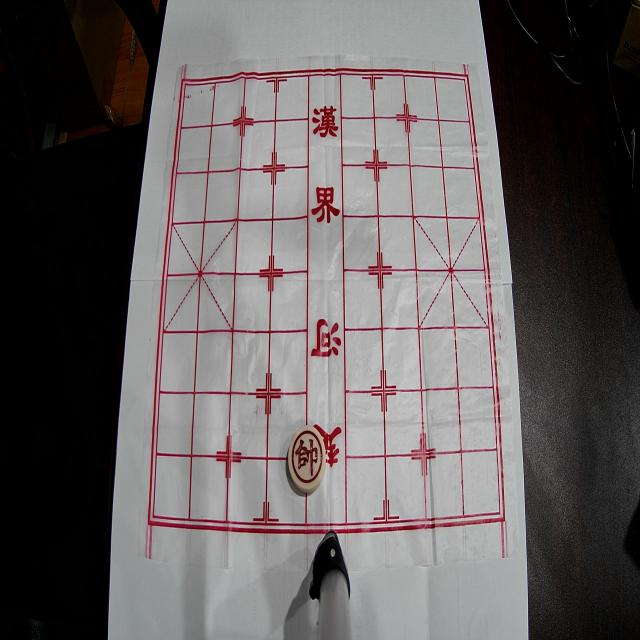red-general: (288, 425, 326, 493)
